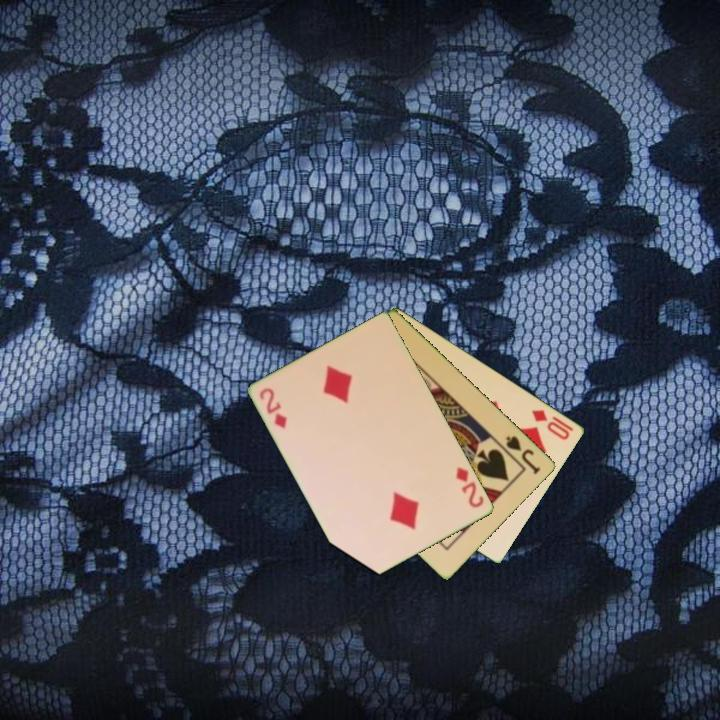10d: (528, 406, 573, 443)
2d: (452, 463, 487, 511), (256, 384, 290, 432)
Js: (503, 432, 544, 477)
